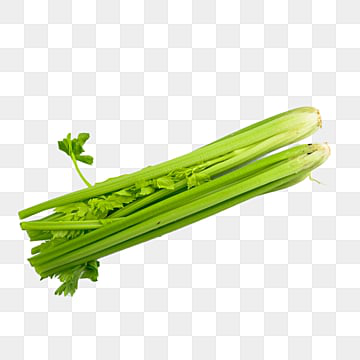Seledri: (21, 105, 357, 280)
